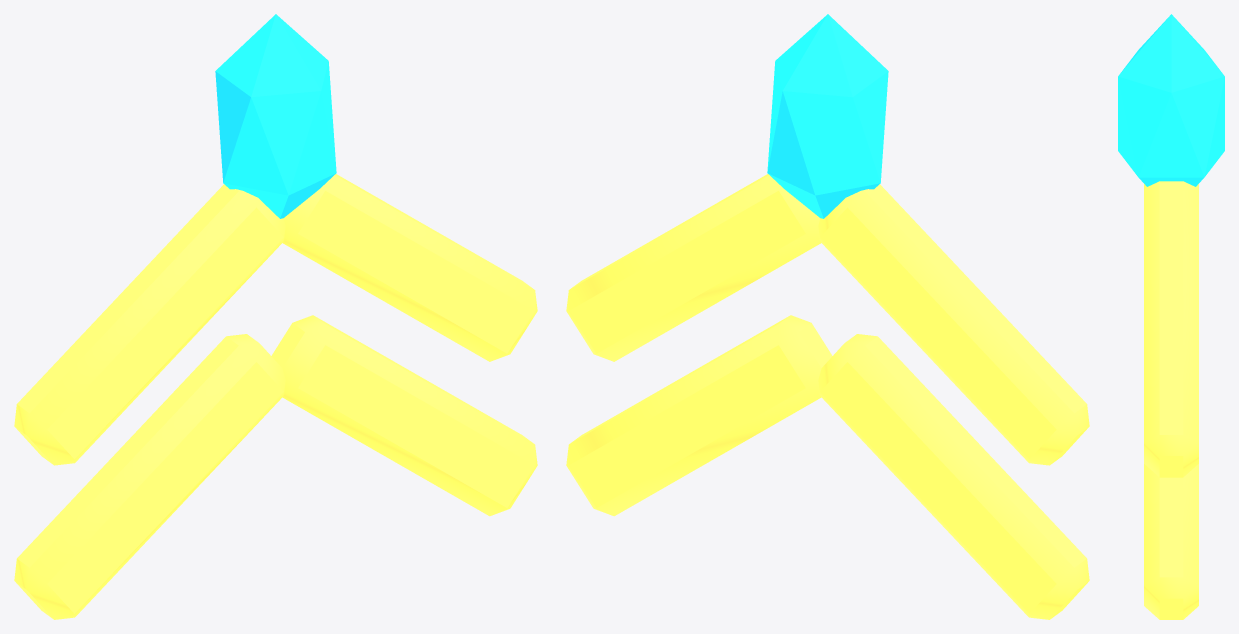
The model's file is fx_tier3_f.glb.
3 views of the same model, side by side, from view 1: azimuth 30°, elevation 25°; view 2: azimuth 150°, elevation 25°; view 3: azimuth 270°, elevation 25° (orthographic). The views are drawn at different scales.
Parts seen in each view (by area): view 1: fx_tier3_f; view 2: fx_tier3_f; view 3: fx_tier3_f.
Part boxes in pixels (x1=…): fx_tier3_f: x1=14, y1=14, x2=537, y2=619; fx_tier3_f: x1=566, y1=14, x2=1089, y2=619; fx_tier3_f: x1=1118, y1=14, x2=1224, y2=619.
Bounding box in the file's own units: 0.6921 × 0.7102 × 0.1361.
